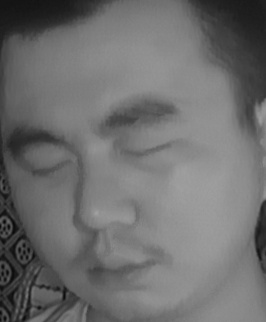blink: (124, 131, 178, 169), (26, 150, 75, 185)
mouth: (78, 242, 157, 292)
